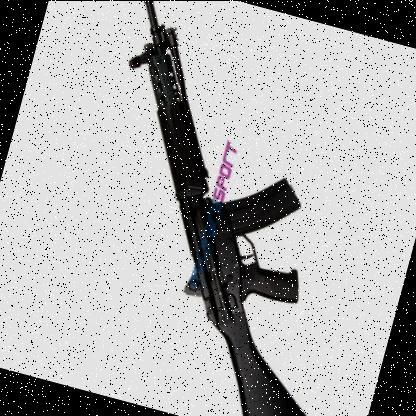rifle: (13, 0, 415, 416)
